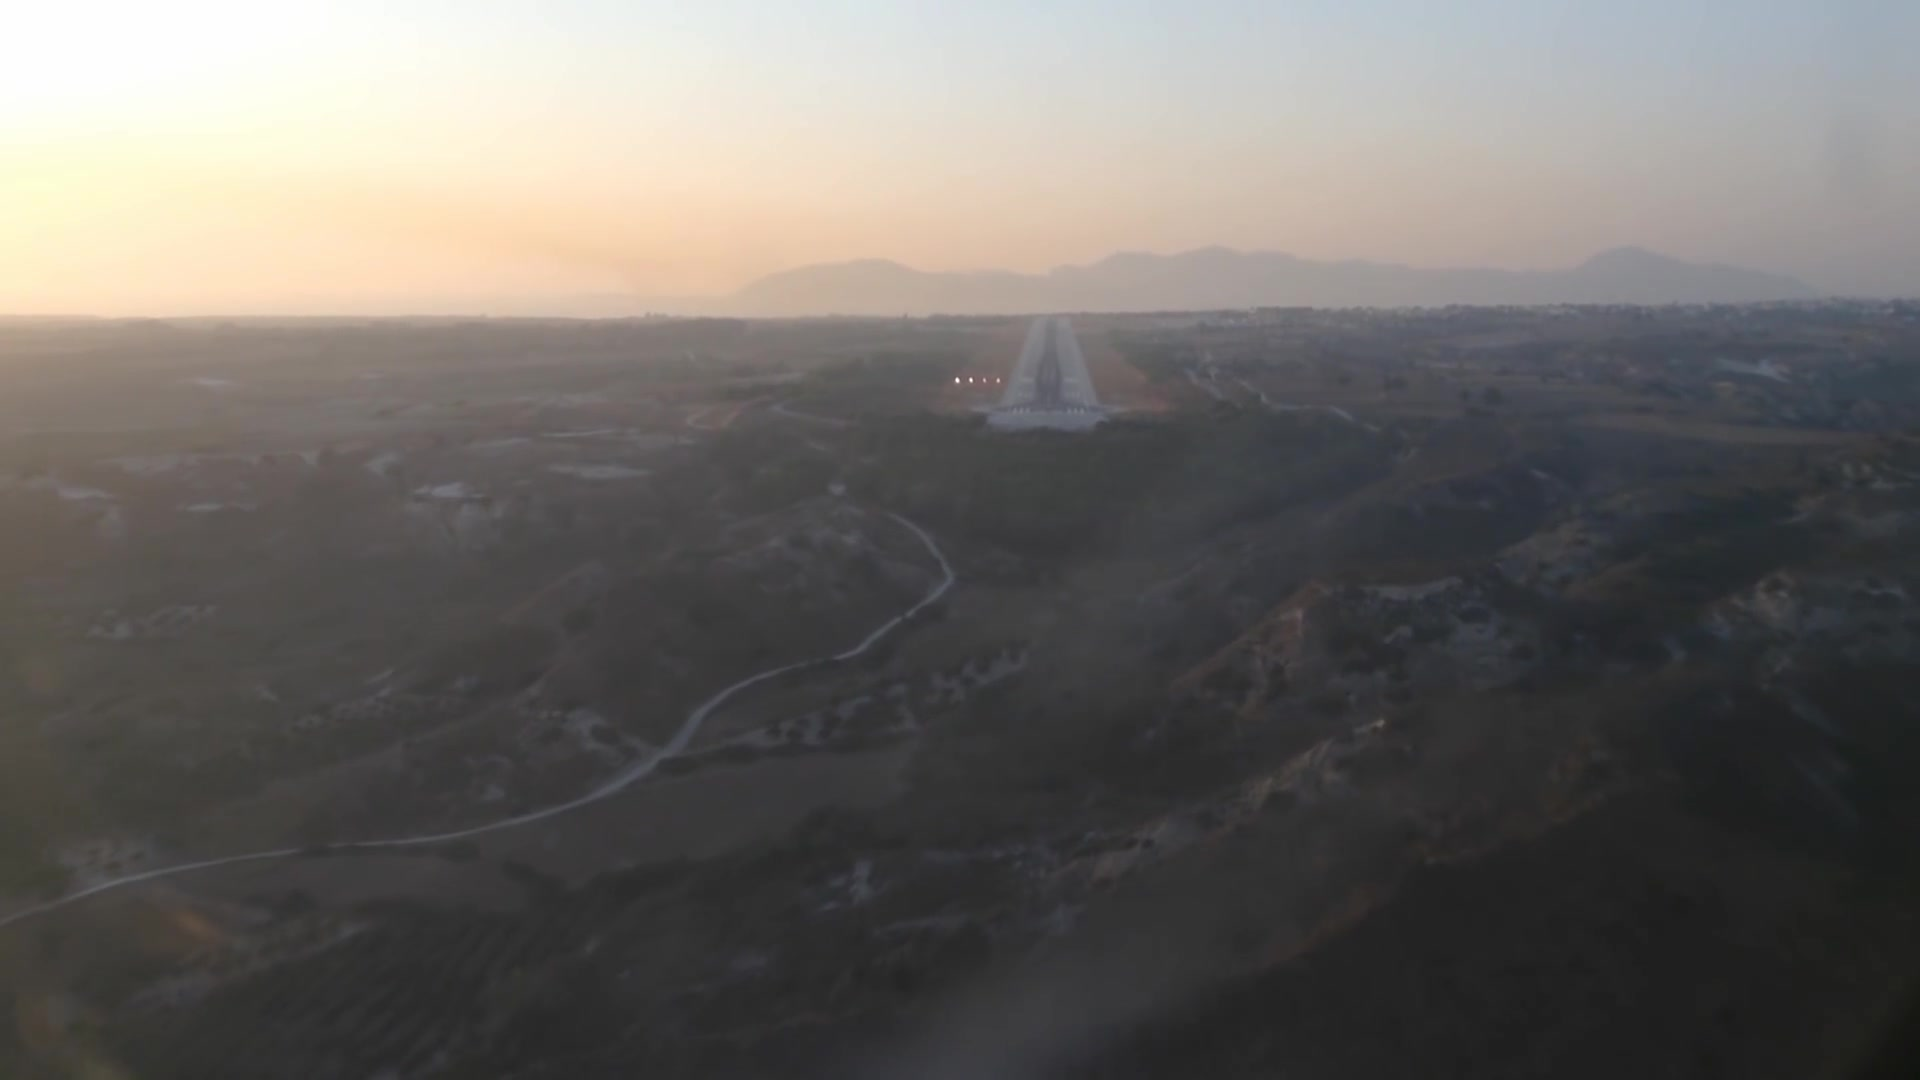entrance: (1006, 401, 1091, 417)
runway: (996, 318, 1102, 430)
